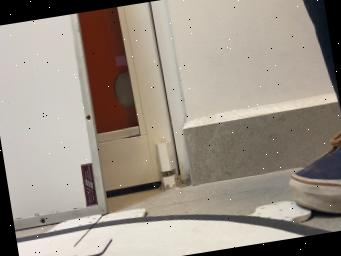street: (16, 214, 332, 256)
